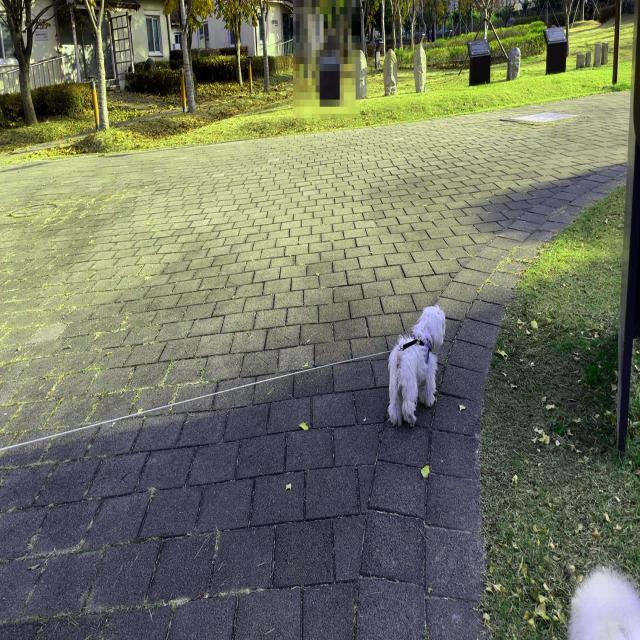Dog: (386, 302, 446, 428)
